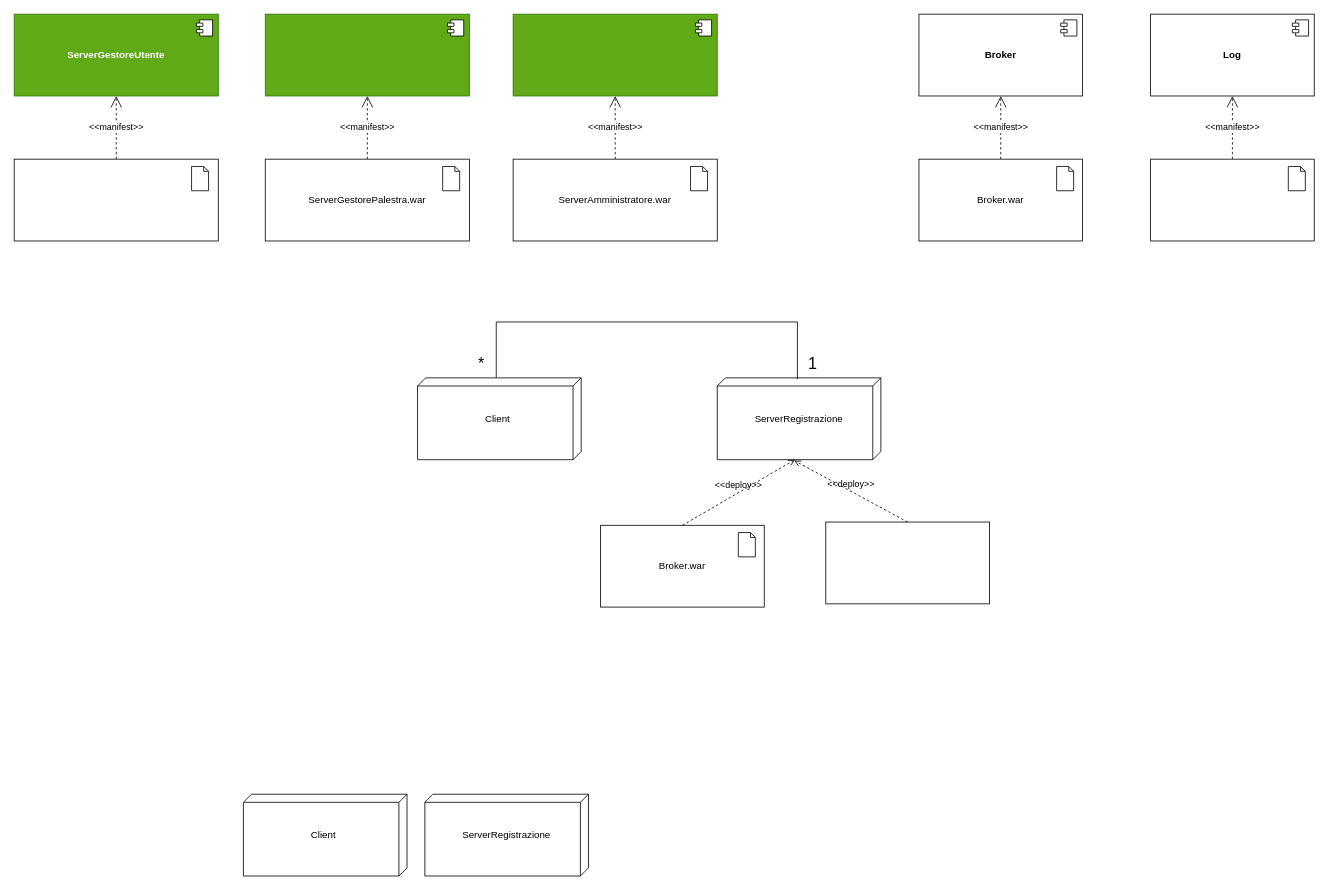
The diagram is 1328 pixels wide and 890 high, and some of its shapes have lost their labels. Here are the shapes that lost their labels. From the top down, the box of each, then its label:
(264, 13, 469, 96): ServerGestorePalestra
(512, 13, 717, 96): ServerAmministratore
(13, 158, 218, 241): ServerGestoreUtente.war
(1150, 158, 1314, 241): Log.war
(825, 521, 989, 604): Login.war
